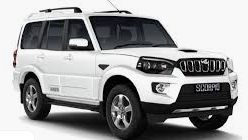car: (8, 1, 242, 139)
